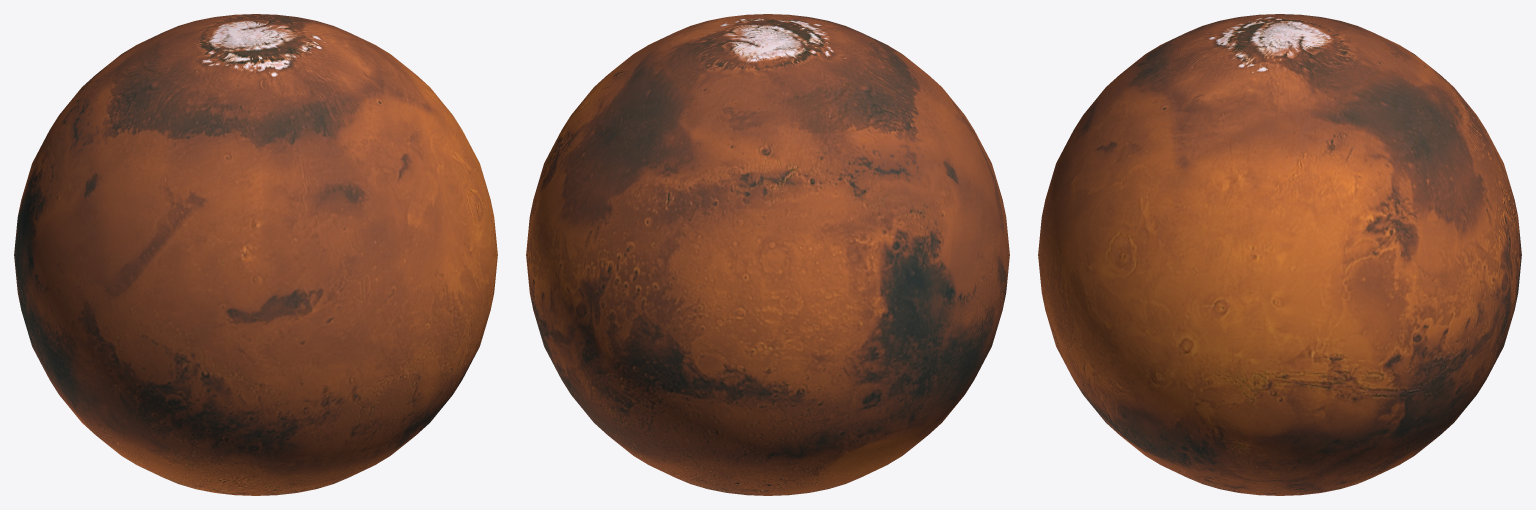
File: Mars.FBX
3 renders of one model, left to right at view 1: azimuth 30°, elevation 25°; view 2: azimuth 150°, elevation 25°; view 3: azimuth 270°, elevation 25°, orthographic.
Parts seen in each view (by area): view 1: Sphere01; view 2: Sphere01; view 3: Sphere01.
Boxes of the visible parts, x1,y1,x2,y2 form: Sphere01: (14,14,497,495); Sphere01: (526,14,1009,495); Sphere01: (1038,14,1521,495).
Bounding box in the file's own units: 6804 × 6804 × 6804.
Materials: 1 (1 with a texture image).
